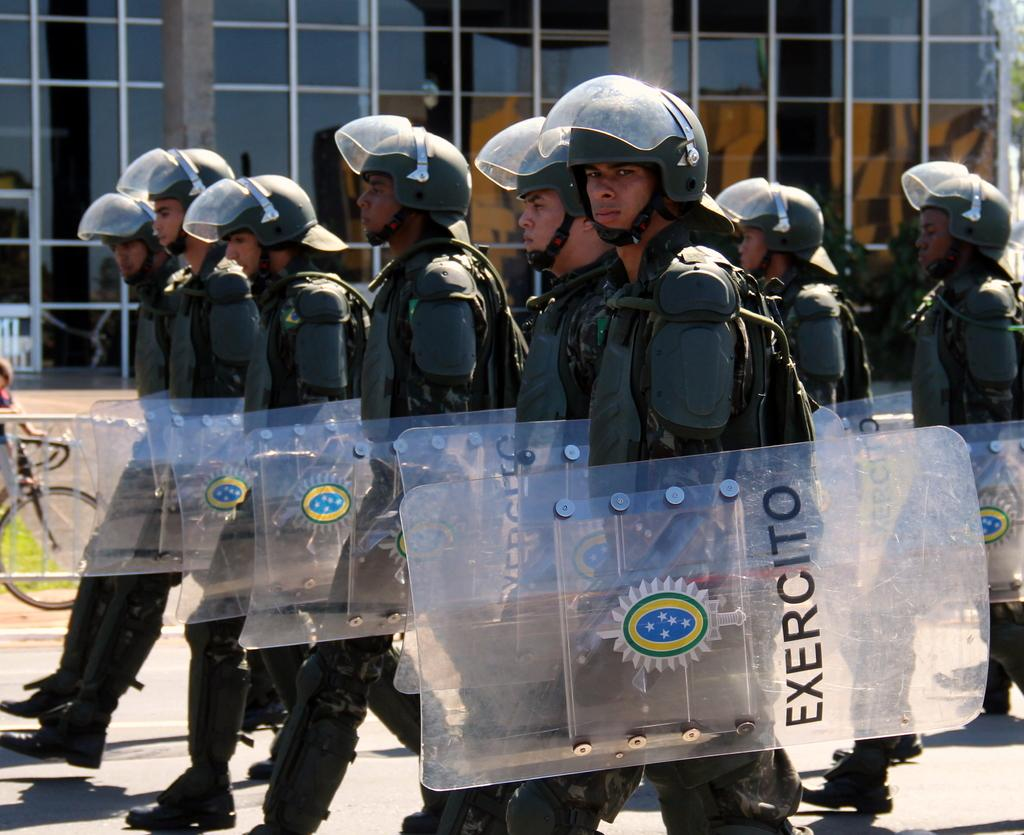helmet: (538, 74, 708, 227), (474, 116, 636, 254), (334, 115, 473, 231), (182, 174, 318, 274), (116, 148, 235, 246), (901, 161, 1012, 263), (716, 177, 824, 270), (77, 193, 168, 275)
